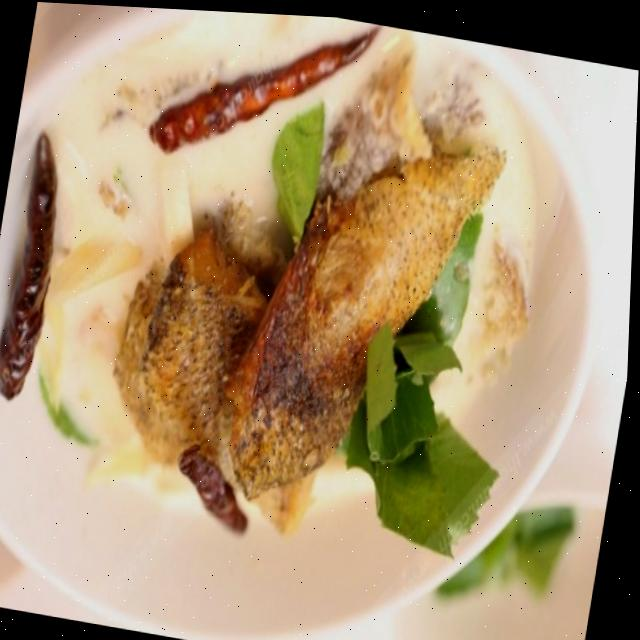汤锅炖物: (20, 13, 534, 605)
